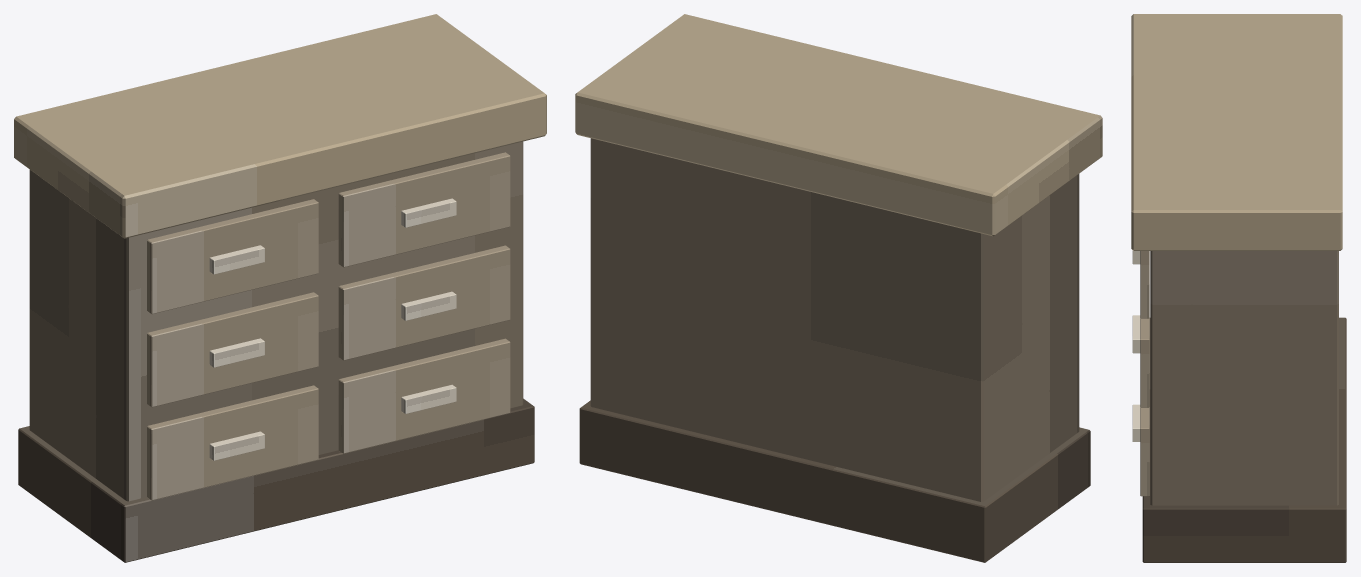
The model's file is bedroom_dresser_ivory.glb.
The picture shows the model from 3 angles, left to right: view 1: azimuth 30°, elevation 25°; view 2: azimuth 150°, elevation 25°; view 3: azimuth 270°, elevation 25°; orthographic projection. The views are drawn at different scales.
Visible parts, largest first — view 1: DresserTop, DresserBody, DresserPlinth, DresserDrawer_2_2, DresserDrawer_1_2, DresserDrawer_3_2, DresserDrawer_3_1, DresserDrawer_1_1, DresserDrawer_2_1, DresserHandle_1_1, DresserHandle_2_1, DresserHandle_3_1 (+3 smaller); view 2: DresserBody, DresserTop, DresserPlinth; view 3: DresserTop, DresserBody, DresserPlinth, DresserDrawer_2_2, DresserDrawer_3_2, DresserDrawer_1_2, DresserHandle_2_2, DresserHandle_3_2.
Part boxes in pixels (x1=…): DresserTop: x1=14, y1=14, x2=546, y2=238; DresserBody: x1=29, y1=141, x2=523, y2=501; DresserPlinth: x1=18, y1=398, x2=534, y2=562; DresserDrawer_2_2: x1=338, y1=245, x2=510, y2=360; DresserDrawer_1_2: x1=338, y1=152, x2=510, y2=267; DresserDrawer_3_2: x1=338, y1=338, x2=510, y2=453; DresserDrawer_3_1: x1=147, y1=385, x2=318, y2=500; DresserDrawer_1_1: x1=147, y1=199, x2=318, y2=314; DresserDrawer_2_1: x1=147, y1=292, x2=318, y2=407; DresserHandle_1_1: x1=209, y1=245, x2=264, y2=274; DresserHandle_2_1: x1=209, y1=338, x2=264, y2=367; DresserHandle_3_1: x1=209, y1=431, x2=264, y2=460; DresserBody: x1=590, y1=138, x2=1079, y2=501; DresserTop: x1=575, y1=14, x2=1102, y2=236; DresserPlinth: x1=579, y1=400, x2=1090, y2=562; DresserTop: x1=1131, y1=14, x2=1342, y2=250; DresserBody: x1=1150, y1=251, x2=1338, y2=505; DresserPlinth: x1=1142, y1=317, x2=1346, y2=562; DresserDrawer_2_2: x1=1140, y1=318, x2=1149, y2=407; DresserDrawer_3_2: x1=1140, y1=407, x2=1149, y2=496; DresserDrawer_1_2: x1=1140, y1=251, x2=1149, y2=318; DresserHandle_2_2: x1=1132, y1=316, x2=1140, y2=353; DresserHandle_3_2: x1=1132, y1=404, x2=1140, y2=441.
Bounding box in the file's own units: 1.24 × 1.04 × 0.57.
1 material, 1 textured.
